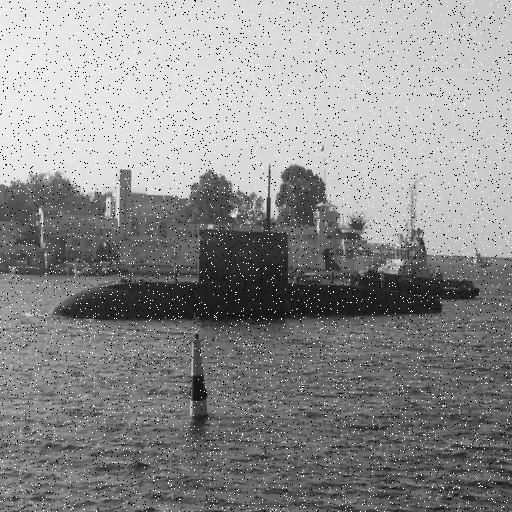submarine: (52, 233, 442, 317)
